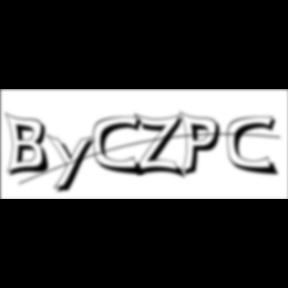B: (5, 111, 55, 179)
C: (94, 115, 148, 178), (228, 115, 282, 178)
P: (180, 110, 226, 180)
Z: (134, 112, 190, 181)
y: (47, 132, 101, 196)
